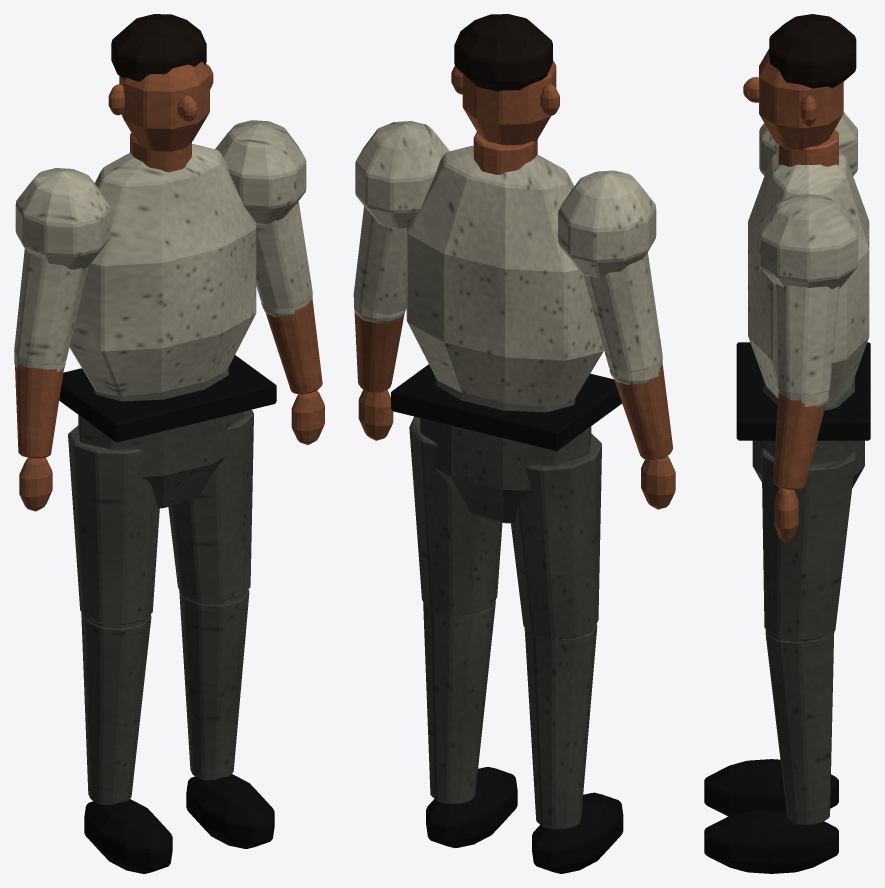
The model's file is PROP-E9FDE33E57FF_lod1.glb.
3 renders of one model, left to right at view 1: azimuth 30°, elevation 25°; view 2: azimuth 150°, elevation 25°; view 3: azimuth 270°, elevation 25°, orthographic. The views are drawn at different scales.
Visible parts, largest first — view 1: torso.047, thigh.046, calf.046, shoulder.047, upper_arm.047, shoe.046, belt.046, pelvis.046, forearm.047, head.046, hair_cap.046, hand.046 (+3 smaller); view 2: torso.047, thigh.046, calf.046, shoulder.047, upper_arm.047, pelvis.046, shoe.046, belt.046, forearm.047, hair_cap.046, head.046, hand.046 (+3 smaller); view 3: thigh.046, torso.047, shoe.046, calf.046, shoulder.047, upper_arm.047, belt.046, hair_cap.046, head.046, forearm.047, pelvis.046, neck.046 (+3 smaller).
Part boxes in pixels (x1,y1,x2,y2): torso.047: (69,144,256,396); thigh.046: (68,409,253,624); calf.046: (81,590,249,804); shoulder.047: (15,120,306,269); upper_arm.047: (14,201,312,364); shoe.046: (84,774,274,873); belt.046: (59,355,276,442); pelvis.046: (78,368,243,508); forearm.047: (15,298,322,458); head.046: (119,61,209,152); hair_cap.046: (111,14,206,81); hand.046: (19,390,324,511); torso.047: (406,145,603,407); thigh.046: (409,416,601,639); calf.046: (423,601,597,829); shoulder.047: (355,121,656,277); upper_arm.047: (353,206,662,372); pelvis.046: (420,378,591,523); shoe.046: (426,767,623,873); belt.046: (391,364,621,451); forearm.047: (354,311,672,460); hair_cap.046: (454,14,552,91); head.046: (462,60,556,145); hand.046: (358,389,675,509); thigh.046: (761,448,855,640); torso.047: (748,150,869,406); shoe.046: (704,759,838,873); calf.046: (765,629,834,825); shoulder.047: (759,112,857,289); upper_arm.047: (775,283,839,393); belt.046: (736,342,870,440); hair_cap.046: (769,14,856,88); head.046: (759,48,843,150); forearm.047: (773,393,825,489); pelvis.046: (752,377,864,487); neck.046: (778,129,838,166).
Bounding box in the file's own units: 0.7126 × 1.84 × 0.3357.
5 materials, 5 textured.
